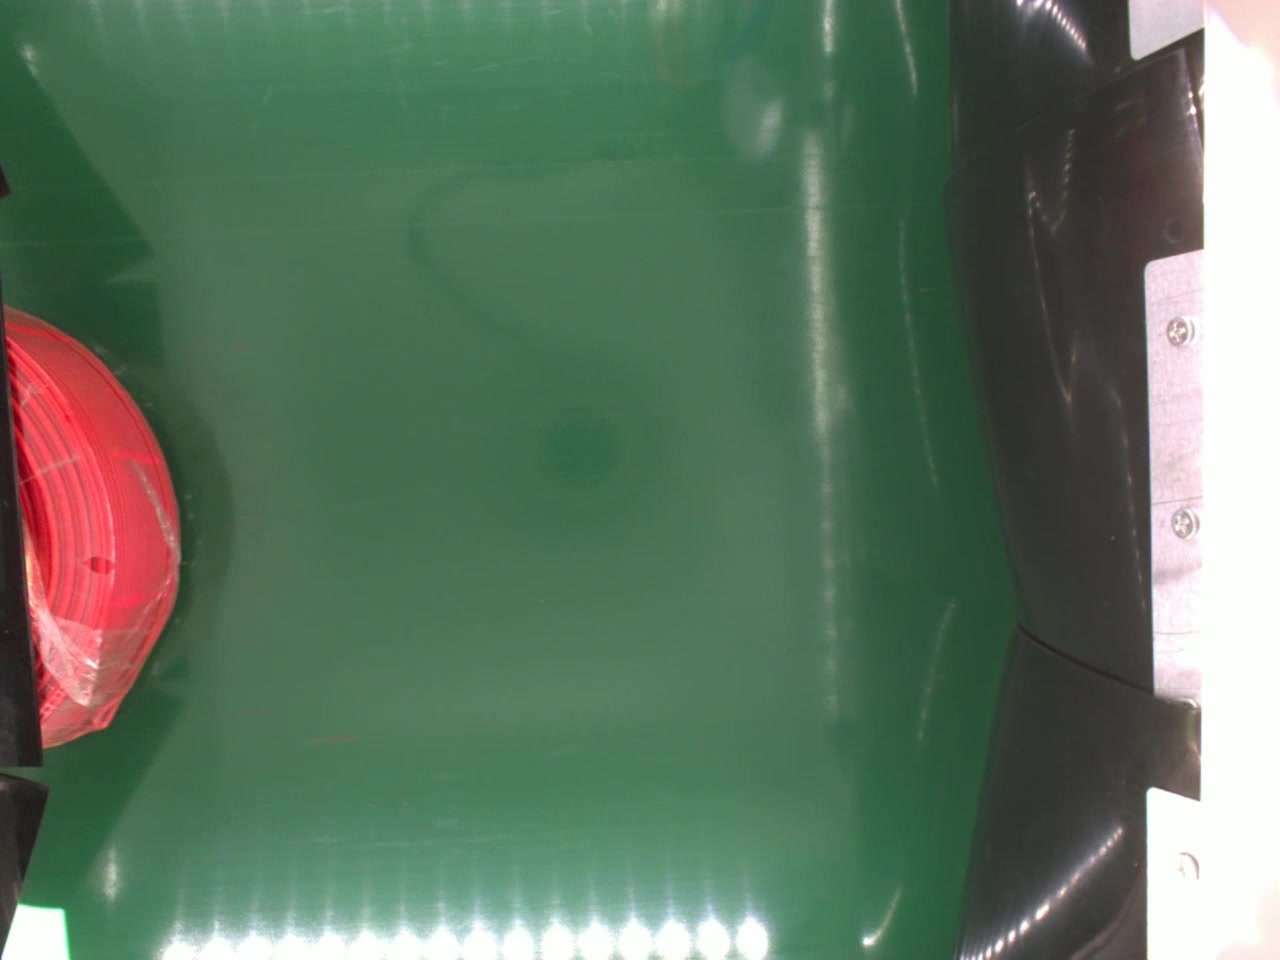red: (0, 303, 183, 755)
